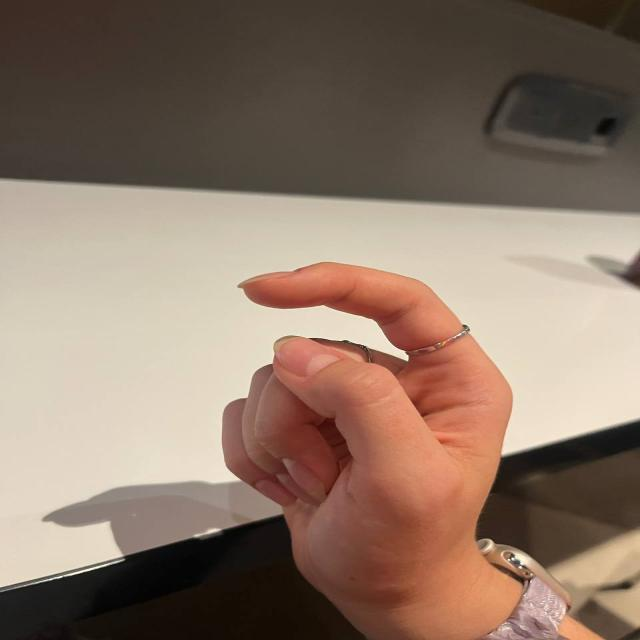kh: (171, 222, 516, 570)
